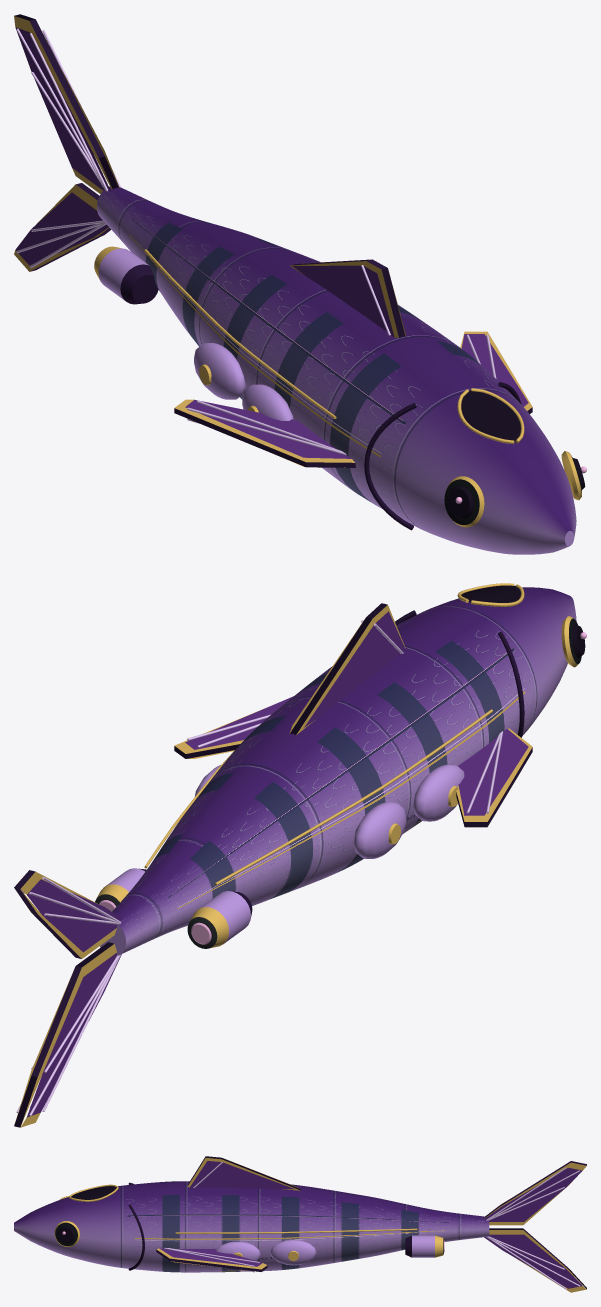
3 renders of one model, top to bottom at view 1: azimuth 30°, elevation 25°; view 2: azimuth 150°, elevation 25°; view 3: azimuth 270°, elevation 25°, orthographic. The views are drawn at different scales.
Visible parts, largest first — view 1: pilotfish_hull; view 2: pilotfish_hull; view 3: pilotfish_hull.
Part boxes in pixels (x1,y1,x2,y2): pilotfish_hull: (14,14,586,554); pilotfish_hull: (14,583,586,1127); pilotfish_hull: (14,1156,586,1292).
Bounding box in the file's own units: 5.24 × 4.16 × 16.
1 material, 1 textured.
